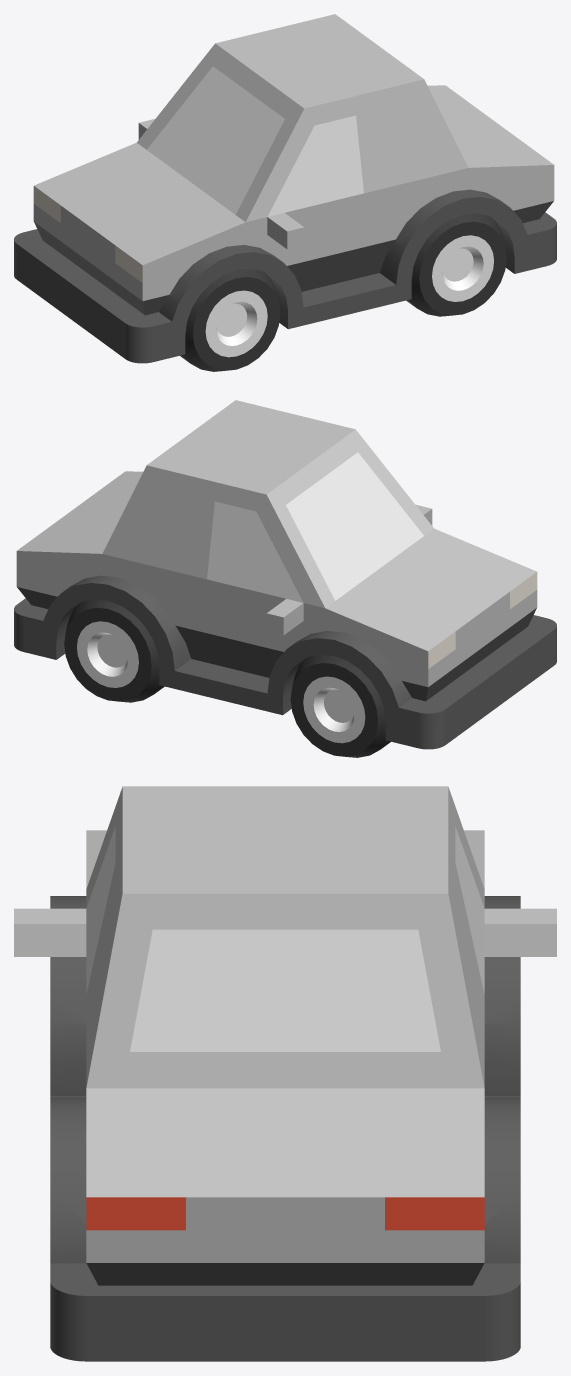
Rendered from sedan.obj.
3 renders of one model, top to bottom at view 1: azimuth 30°, elevation 25°; view 2: azimuth 150°, elevation 25°; view 3: azimuth 270°, elevation 25°, orthographic. The views are drawn at different scales.
Visible parts, largest first — view 1: body, wheel_backLeft, wheel_frontLeft; view 2: body, wheel_backRight, wheel_frontRight; view 3: body.
Boxes of the visible parts, x1,y1,x2,y2 form: body: [14, 14, 556, 363]; wheel_backLeft: [406, 213, 506, 316]; wheel_frontLeft: [180, 268, 280, 371]; body: [14, 400, 556, 749]; wheel_backRight: [64, 599, 164, 702]; wheel_frontRight: [290, 654, 390, 757]; body: [14, 786, 556, 1361].
Bounding box in the file's own units: 1.88 × 0.975 × 1.13.
